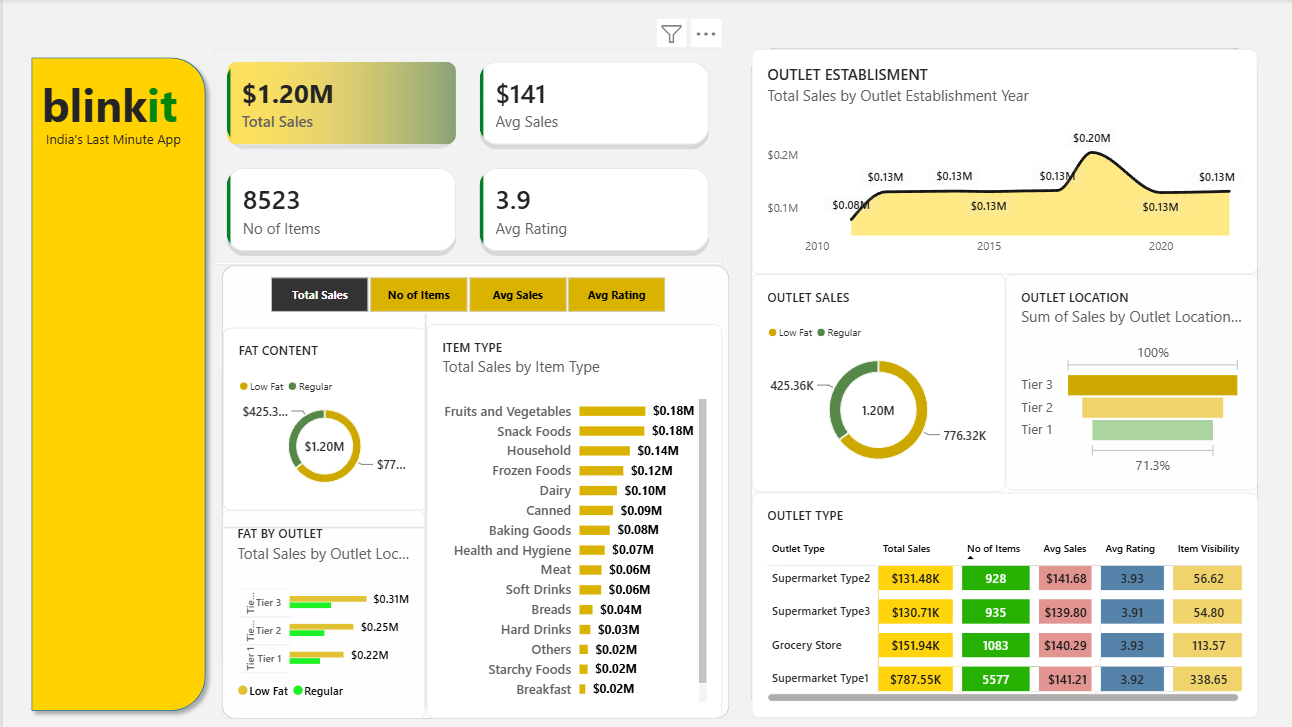

The page's visual inventory and layout, read from the dashboard file:
{"tool":"powerbi","page":{"name":"Page 1","canvas":[1400,800],"ordinal":0},"visuals":[{"type":"shape","box":[21,54,205,719],"z":0},{"type":"textbox","box":[42,81,162.1,85.5],"z":1000},{"type":"textbox","box":[273.2,706.9,204.1,52.5],"z":2000},{"type":"textbox","box":[273.2,654.4,204.1,52.5],"z":3000},{"type":"textbox","box":[0,121.6,234.1,45],"z":4000},{"type":"cardVisual","fields":{"Data":["BlinkIT Grocery Data.Total Sales","BlinkIT Grocery Data.Avg Sales","BlinkIT Grocery Data.No of Items","BlinkIT Grocery Data.Avg Rating"]},"box":[226.5,53.6,544.2,231.9],"z":5000},{"type":"shape","box":[234.6,285.5,544.2,486.6],"z":6000},{"type":"donutChart","title":" FAT CONTENT","fields":{"Category":["BlinkIT Grocery Data.Item Fat Content"],"Y":["BlinkIT Grocery Data.Total Sales"]},"box":[235.9,352.5,218.5,195.7],"z":7000},{"type":"slicer","fields":{"Values":["Metrics.Metrics"]},"box":[266.8,296.2,462.5,41.6],"z":8000},{"type":"clusteredBarChart","title":"FAT BY OUTLET","fields":{"Category":["BlinkIT Grocery Data.Outlet Location Type","BlinkIT Grocery Data.Outlet Location Type"],"Series":["BlinkIT Grocery Data.Item Fat Content"],"Y":["BlinkIT Grocery Data.Total Sales"]},"box":[234.6,548.3,218.5,223.9],"z":9000},{"type":"shape","box":[234.3,560,220,12.9],"z":10000},{"type":"shape","box":[428.6,337.1,48.6,421.4],"z":11000},{"type":"barChart","title":"ITEM TYPE","fields":{"Category":["BlinkIT Grocery Data.Item Type"],"Y":["BlinkIT Grocery Data.Total Sales"]},"box":[454.4,348.5,317.1,422.9],"z":12000},{"type":"shape","box":[801.6,52.3,544.2,718.5],"z":13000},{"type":"textbox","box":[100,100,300,300],"z":13002},{"type":"donutChart","title":"OUTLET SALES","fields":{"Category":["BlinkIT Grocery Data.Item Fat Content","BlinkIT Grocery Data.Outlet Size"],"Y":["Sum(BlinkIT Grocery Data.Sales)"]},"box":[803,294.9,272.1,233.2],"z":13003},{"type":"funnel","title":"OUTLET LOCATION","fields":{"Category":["BlinkIT Grocery Data.Outlet Location Type"],"Y":["Sum(BlinkIT Grocery Data.Sales)"]},"box":[1075.1,294.9,270.8,231.9],"z":13004},{"type":"pivotTable","title":"OUTLET TYPE","fields":{"Rows":["BlinkIT Grocery Data.Outlet Type"],"Values":["BlinkIT Grocery Data.Total Sales","BlinkIT Grocery Data.No of Items","BlinkIT Grocery Data.Avg Sales","BlinkIT Grocery Data.Avg Rating","Sum(BlinkIT Grocery Data.Item Visibility)"]},"box":[803,529.5,542.9,241.3],"z":13005},{"type":"lineChart","title":"OUTLET ESTABLISMENT","fields":{"Category":["BlinkIT Grocery Data.Outlet Establishment Year"],"Y":["BlinkIT Grocery Data.Total Sales"]},"box":[802.5,53.8,542.5,241.2],"z":13006}]}

Visuals, with their boxes in screenshot pixels (x1, y1, x2, y2), scaled from the page's 1400x800 canvas onto the 1292x727 screenshot:
shape: <bbox>19, 49, 209, 702</bbox>
textbox: <bbox>39, 74, 188, 151</bbox>
textbox: <bbox>252, 642, 440, 690</bbox>
textbox: <bbox>252, 595, 440, 642</bbox>
textbox: <bbox>0, 111, 216, 151</bbox>
cardVisual - BlinkIT Grocery Data.Total Sales x BlinkIT Grocery Data.Avg Sales: <bbox>209, 49, 711, 259</bbox>
shape: <bbox>217, 259, 719, 702</bbox>
" FAT CONTENT" donutChart: <bbox>218, 320, 419, 498</bbox>
slicer - Metrics.Metrics: <bbox>246, 269, 673, 307</bbox>
"FAT BY OUTLET" clusteredBarChart: <bbox>217, 498, 418, 702</bbox>
shape: <bbox>216, 509, 419, 521</bbox>
shape: <bbox>396, 306, 440, 689</bbox>
"ITEM TYPE" barChart: <bbox>419, 317, 712, 701</bbox>
shape: <bbox>740, 48, 1242, 700</bbox>
textbox: <bbox>92, 91, 369, 364</bbox>
"OUTLET SALES" donutChart: <bbox>741, 268, 992, 480</bbox>
"OUTLET LOCATION" funnel: <bbox>992, 268, 1242, 479</bbox>
"OUTLET TYPE" pivotTable: <bbox>741, 481, 1242, 700</bbox>
"OUTLET ESTABLISMENT" lineChart: <bbox>741, 49, 1241, 268</bbox>
